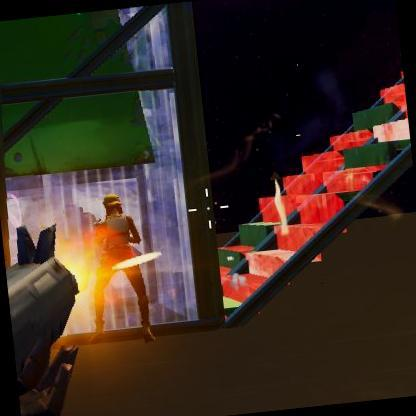person: (92, 192, 158, 332)
